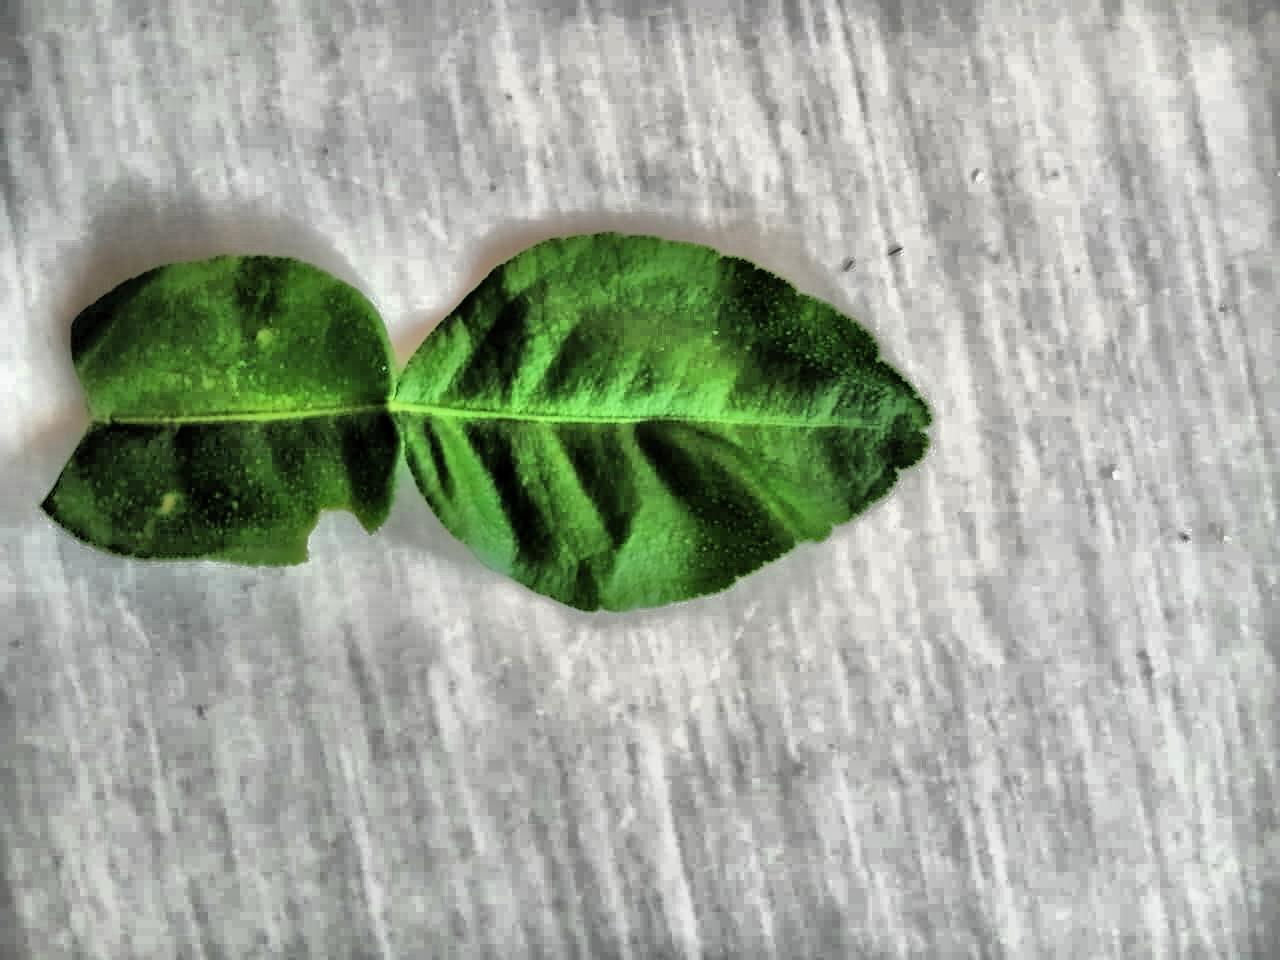daun jeruk: (41, 232, 930, 610)
